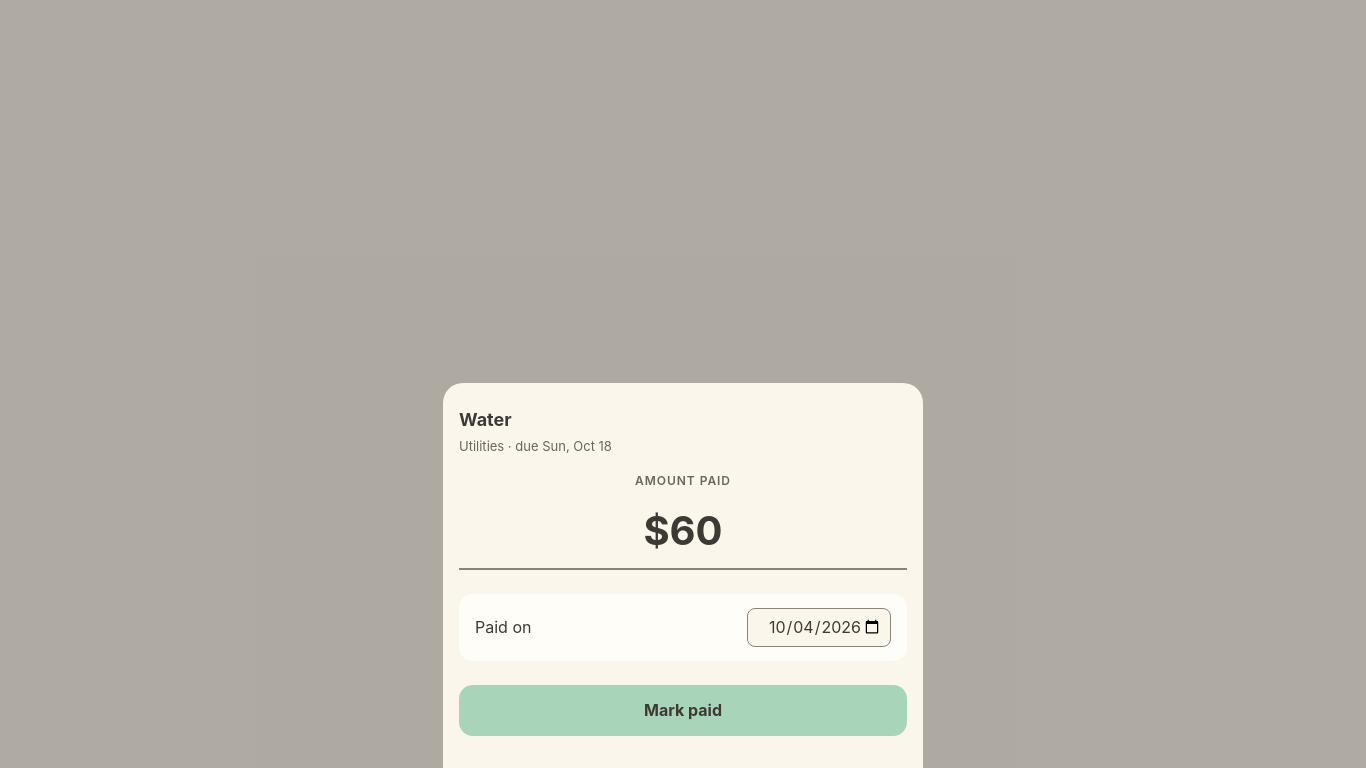
Test case: PaySheet › a failed payment shows a calm message, never the server text
This screenshot has width=1366, height=768.
Click the button "Mark paid": (683, 710) [459, 685, 907, 736]
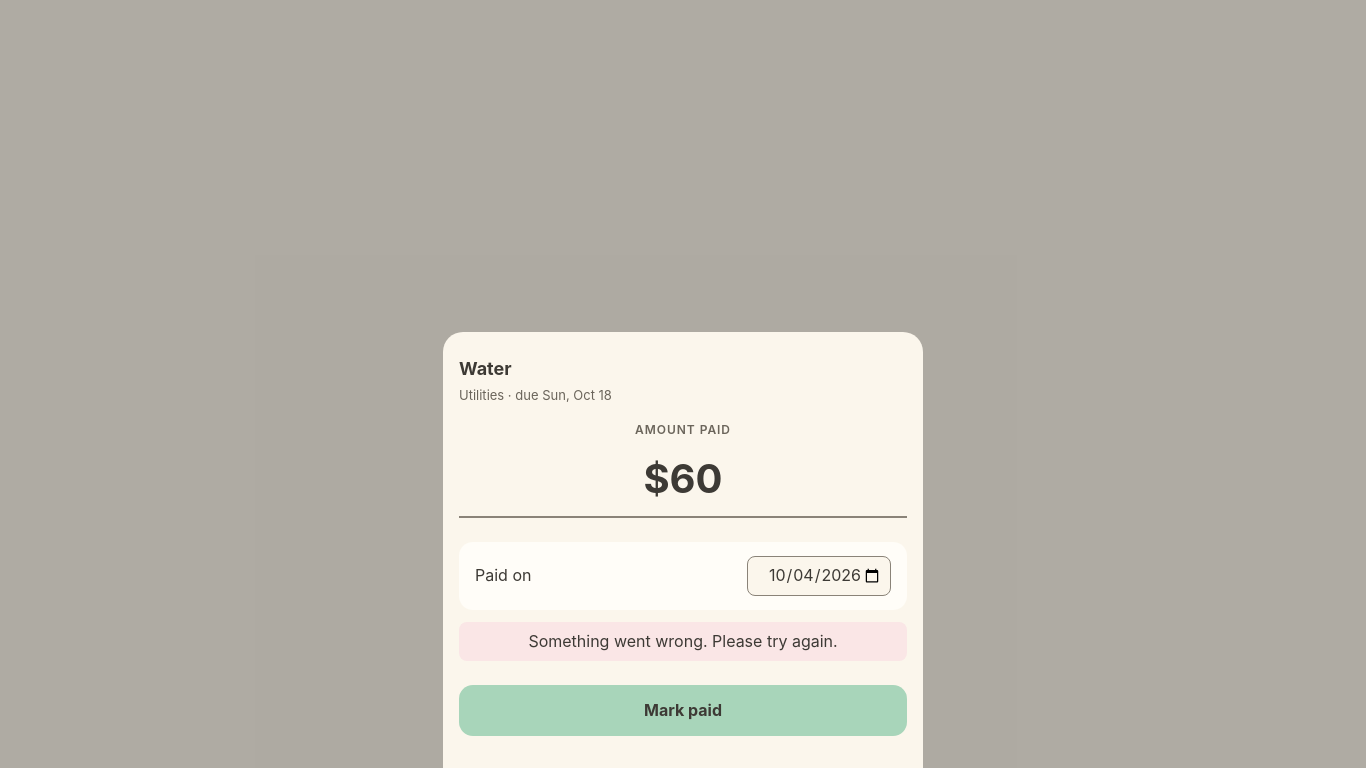
Expected: the message reads "Something went wrong. Please try again.", [528, 631, 838, 651]
